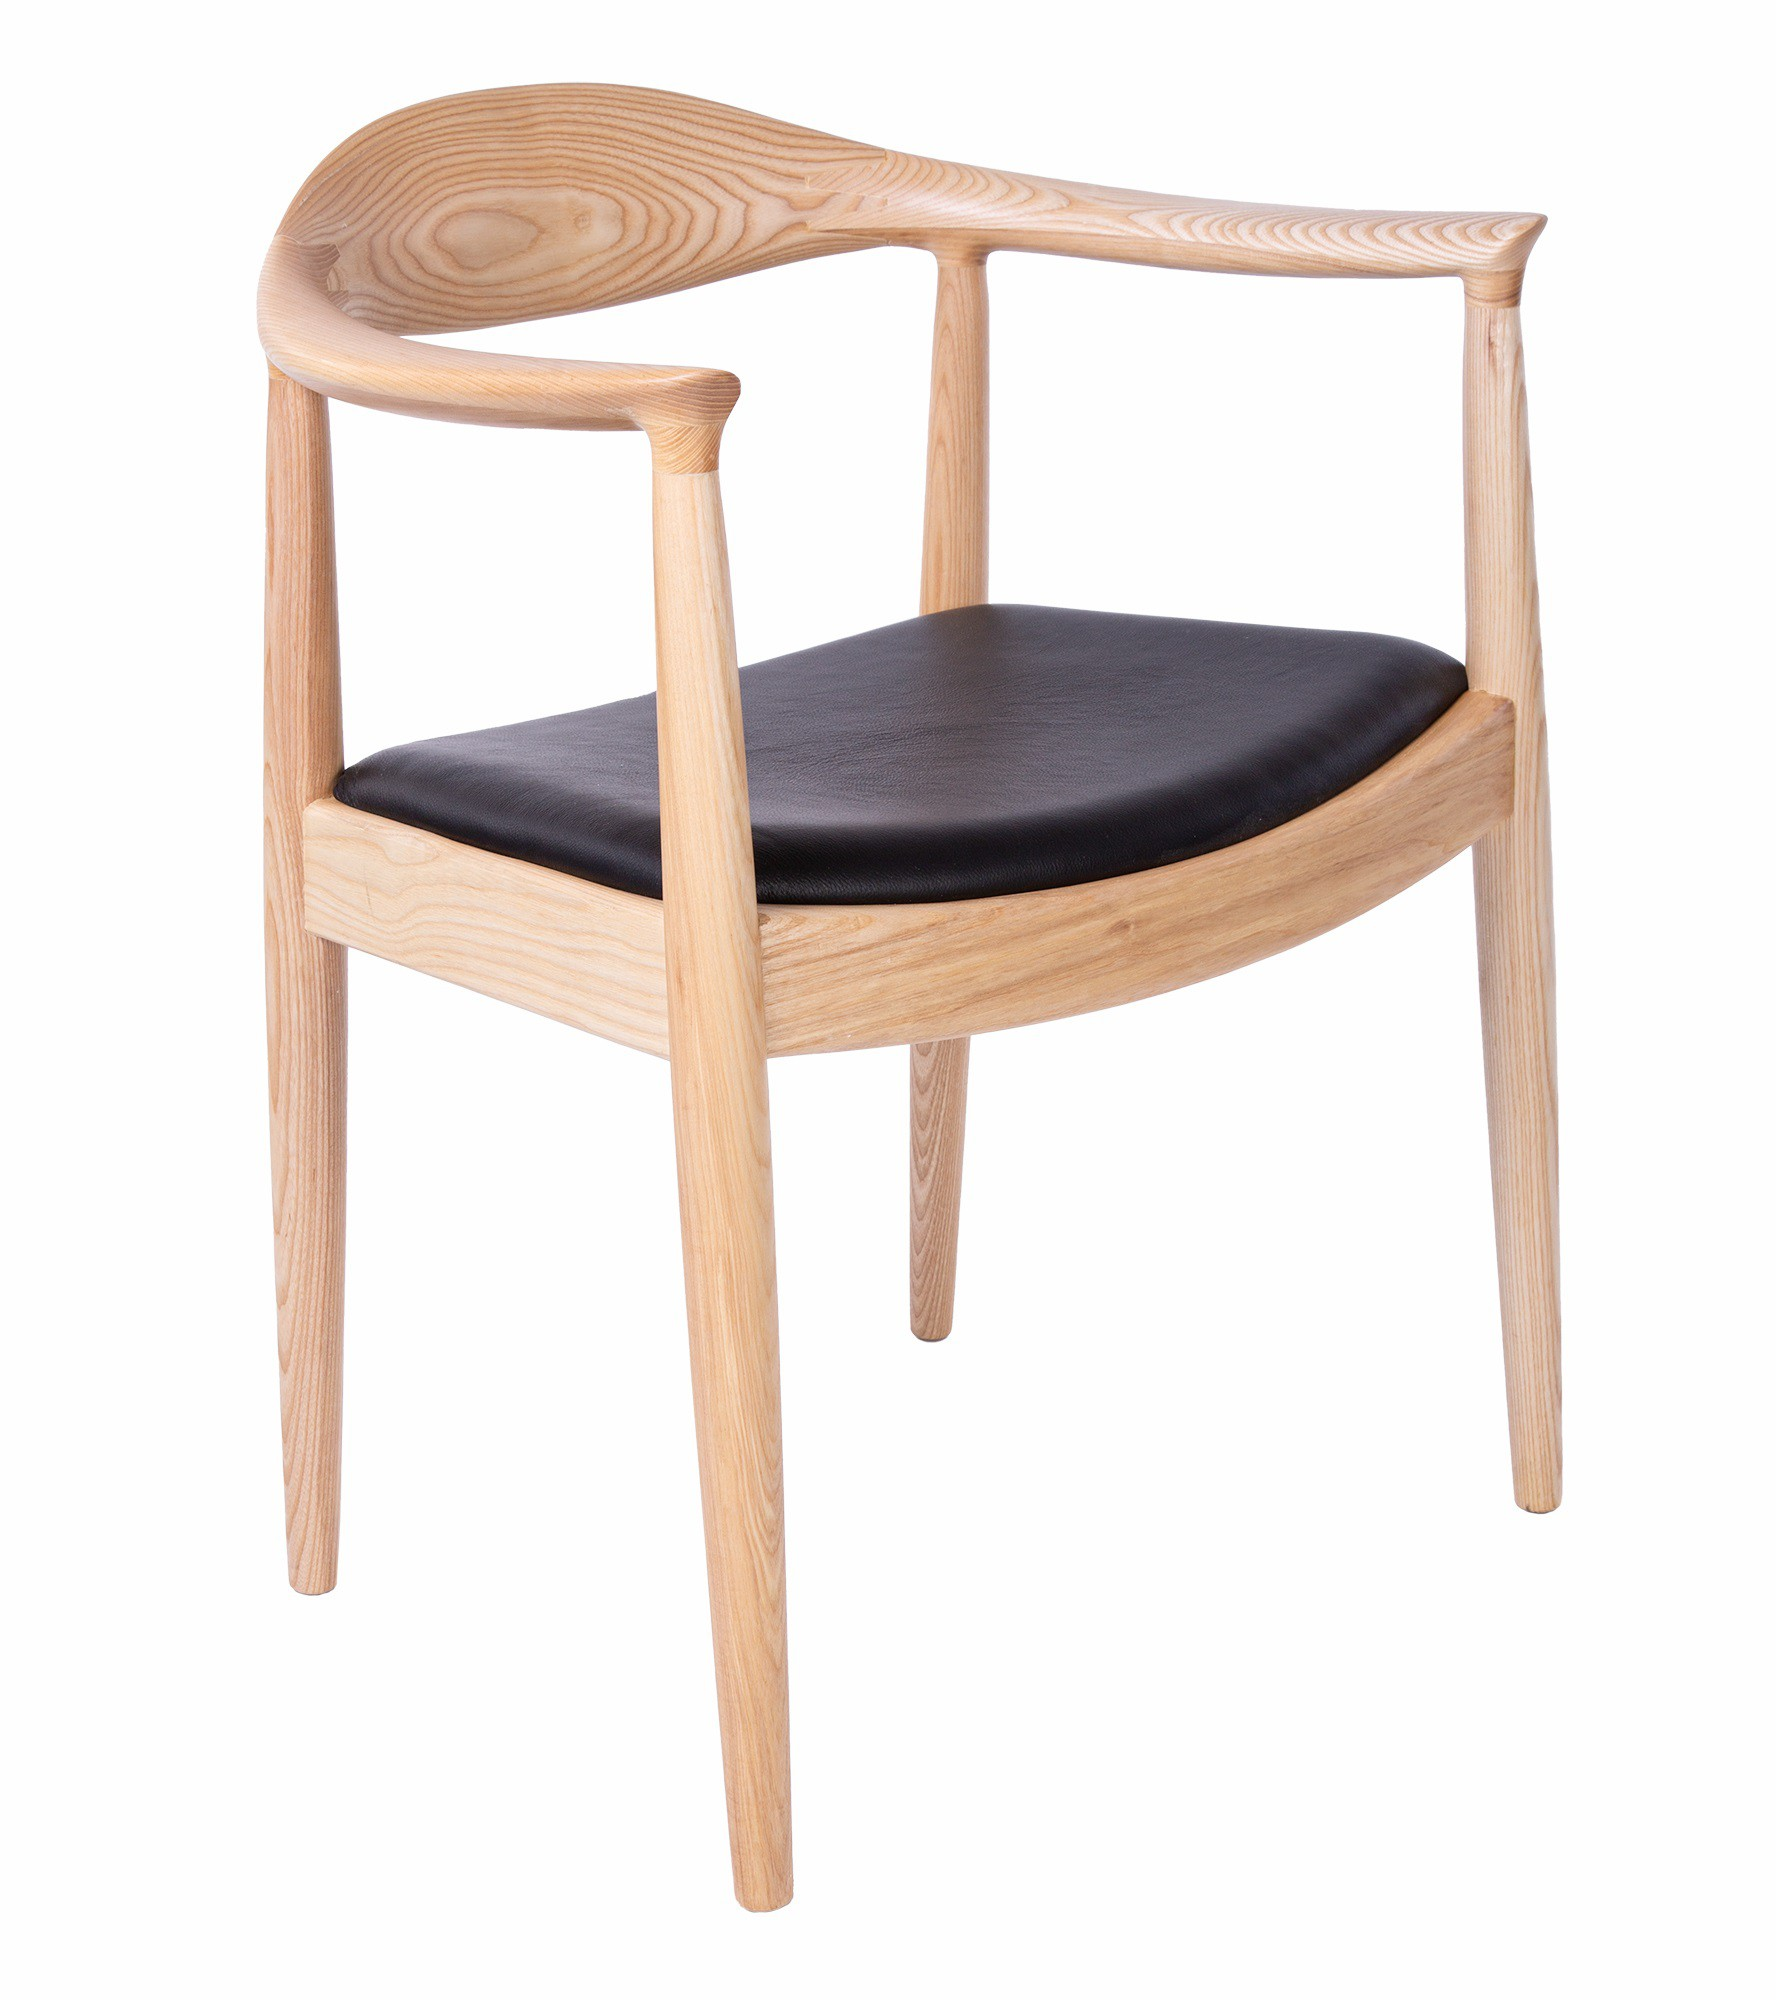kursi: (250, 74, 1610, 1914)
